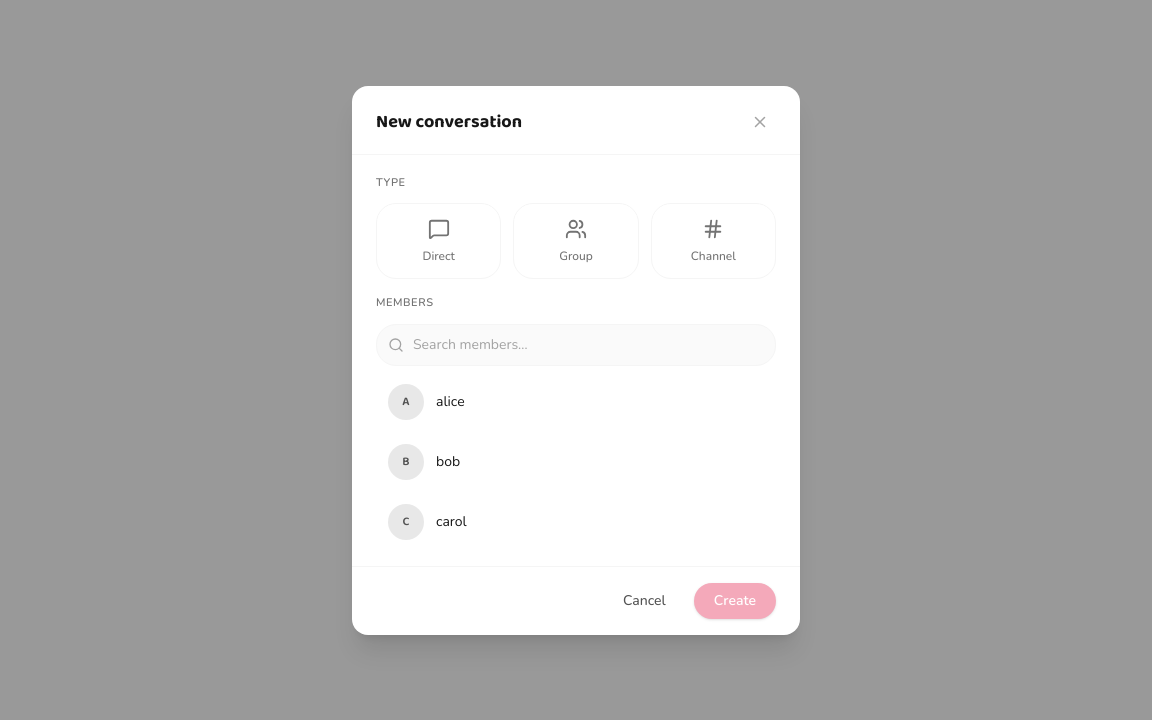
Test: ConversationModalCreation › shows name input when Channel is selected
This screenshot has width=1152, height=720.
Click the button "Channel". click: (713, 241)
box: [651,203,776,279]
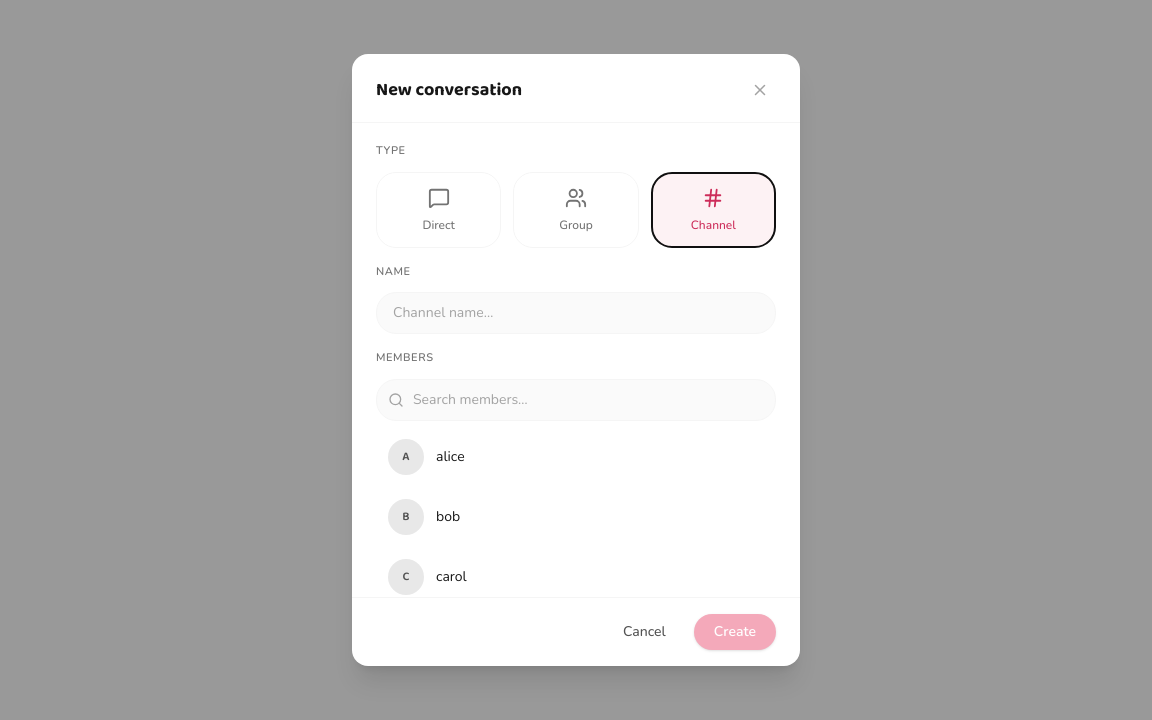
Expected: the field with placeholder "Channel name…" is shown, [376,292,776,334]
